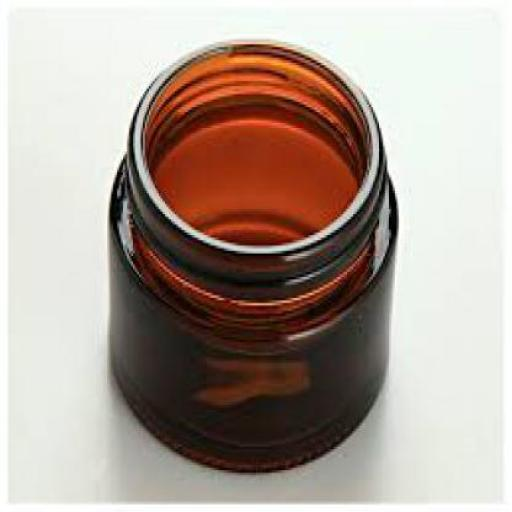glass: (107, 39, 398, 473)
